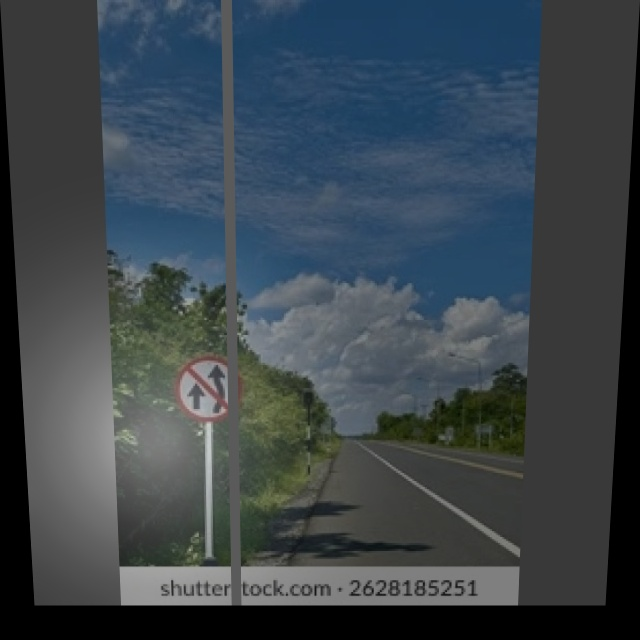Overtaking_Prohibited: (172, 357, 242, 421)
